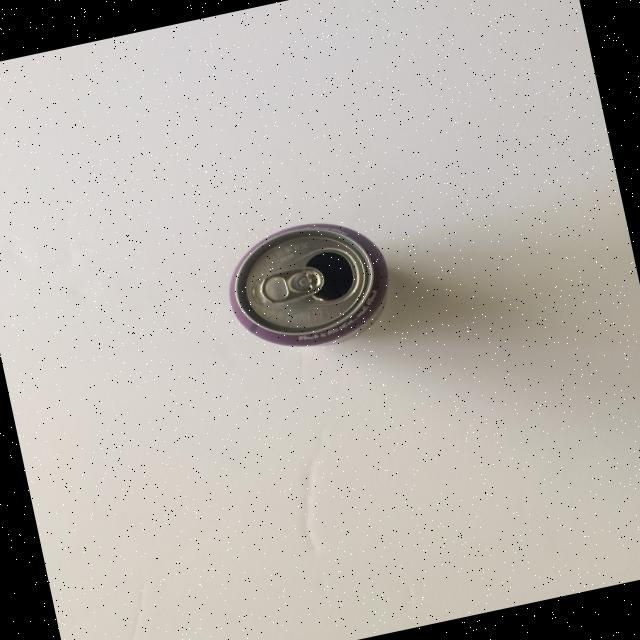metal: (216, 207, 401, 363)
